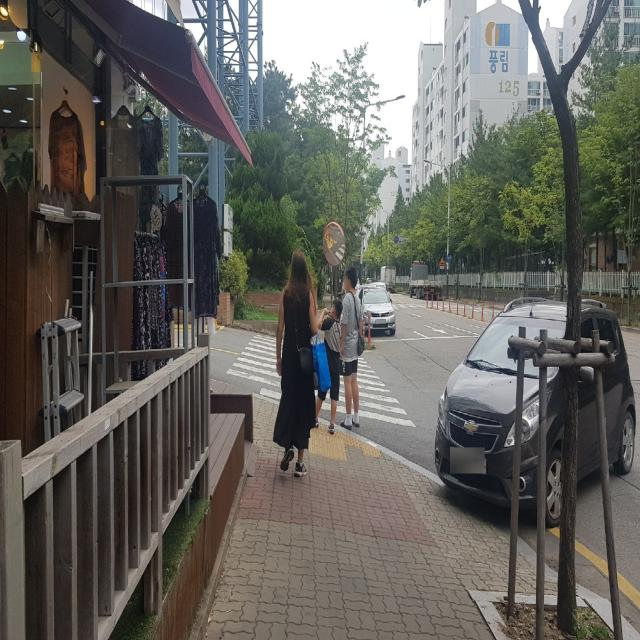횡단보도: (226, 333, 416, 428)
